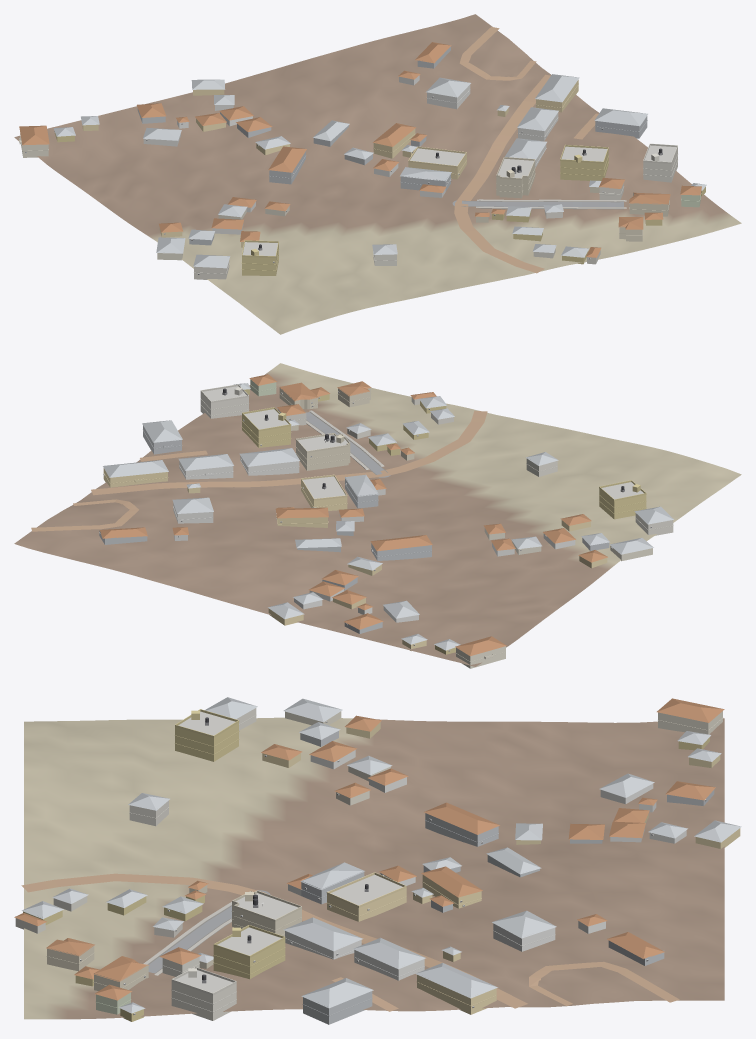
3 views of the same model, one above another, from view 1: azimuth 30°, elevation 25°; view 2: azimuth 150°, elevation 25°; view 3: azimuth 270°, elevation 25° (orthographic). The views are drawn at different scales.
Parts seen in each view (by area): view 1: Terrain-col, Buildings-col, Roads-col, Details, Sidewalks-col; view 2: Terrain-col, Buildings-col, Roads-col, Details; view 3: Terrain-col, Buildings-col, Roads-col, Details, Sidewalks-col.
Part boxes in pixels (bbox=[...]): Terrain-col: bbox=[14, 14, 741, 334]; Buildings-col: bbox=[19, 42, 706, 279]; Roads-col: bbox=[452, 27, 623, 273]; Details: bbox=[19, 84, 701, 274]; Sidewalks-col: bbox=[476, 199, 626, 209]; Terrain-col: bbox=[14, 363, 741, 666]; Buildings-col: bbox=[99, 374, 673, 668]; Roads-col: bbox=[31, 410, 487, 531]; Details: bbox=[99, 384, 673, 662]; Terrain-col: bbox=[24, 717, 724, 1019]; Buildings-col: bbox=[14, 697, 741, 1024]; Roads-col: bbox=[21, 873, 679, 1011]; Details: bbox=[46, 709, 723, 1015]; Sidewalks-col: bbox=[143, 902, 231, 975].
Bounding box in the file's own units: 279 × 16.75 × 266.
